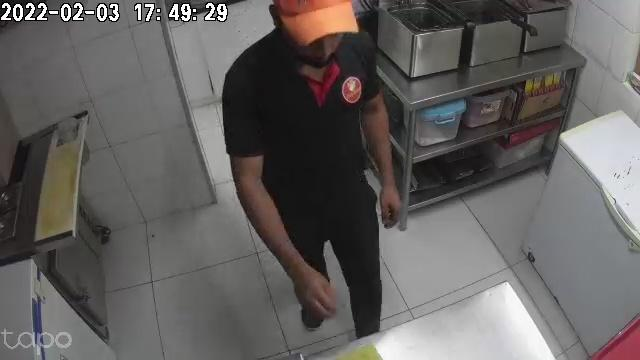no_gloves: (288, 256, 339, 316), (378, 171, 400, 230)
